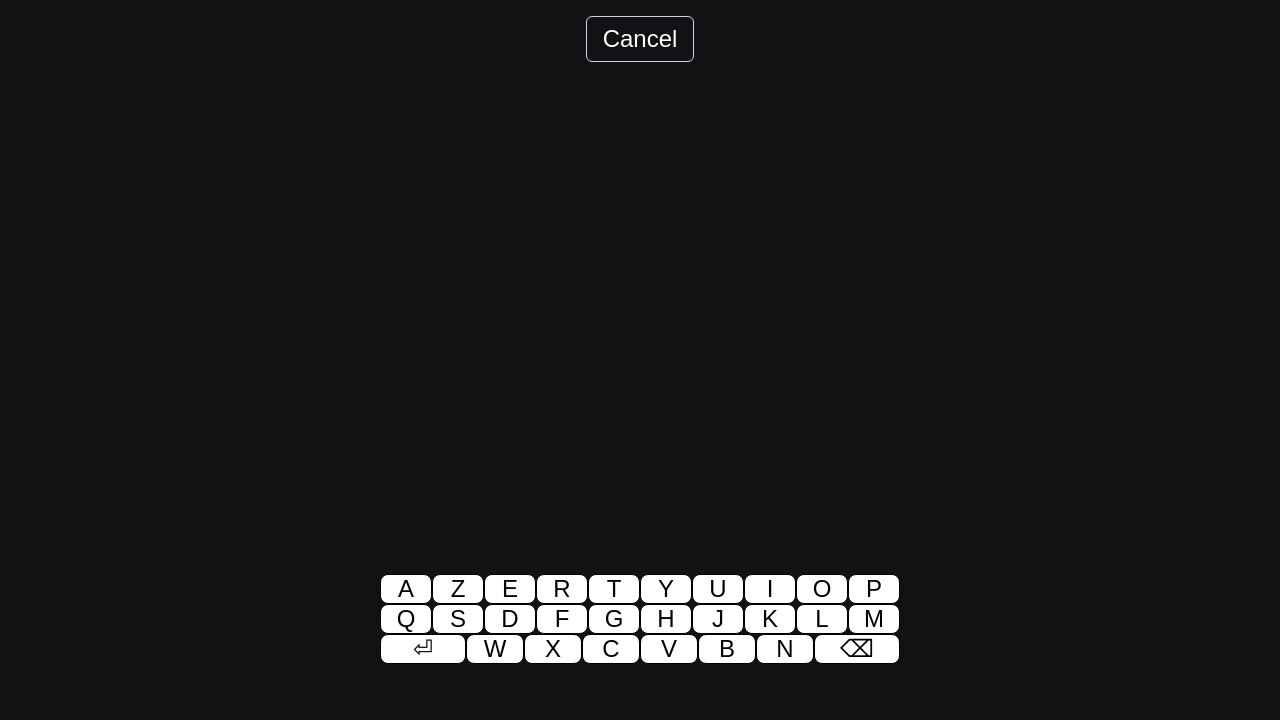
Test: game › should close the confirmation modal when No, continue is clicked
The image size is (1280, 720).
// Ouvre le modal
Click the button "Cancel": coordinates (640, 39) [586, 16, 694, 62]
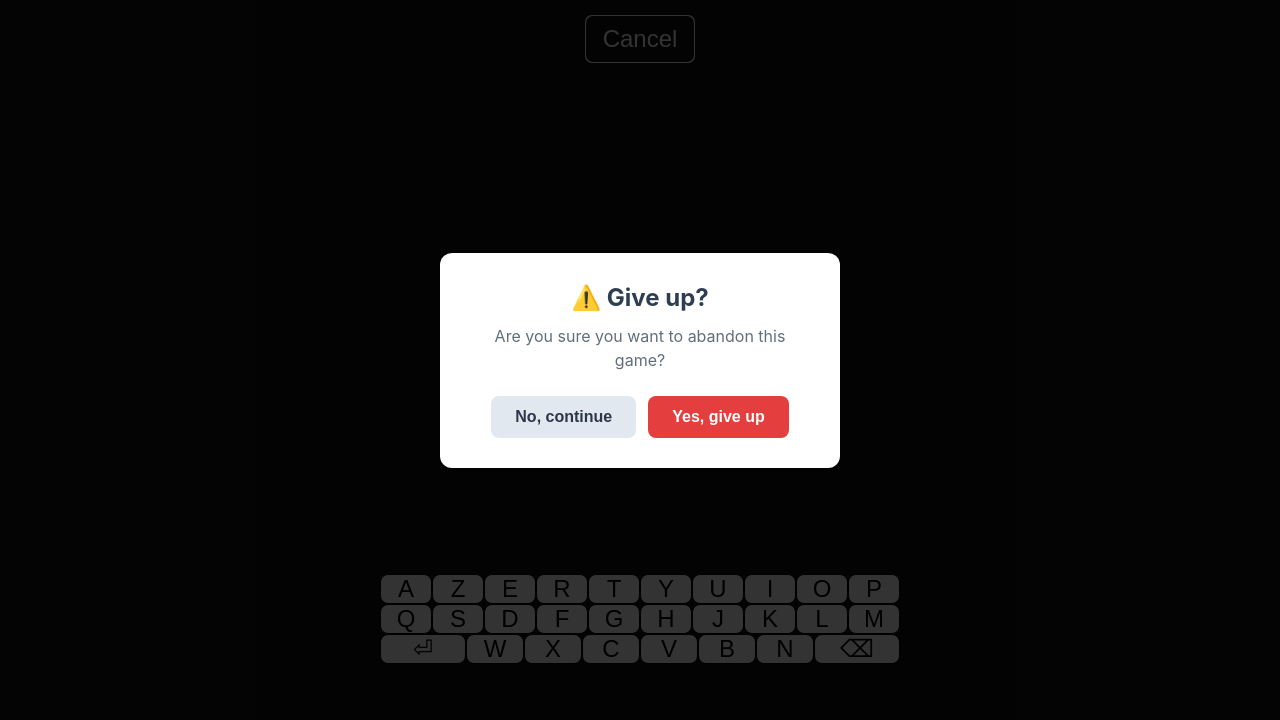
Click the button "No, continue": coordinates (564, 416) [491, 396, 636, 438]
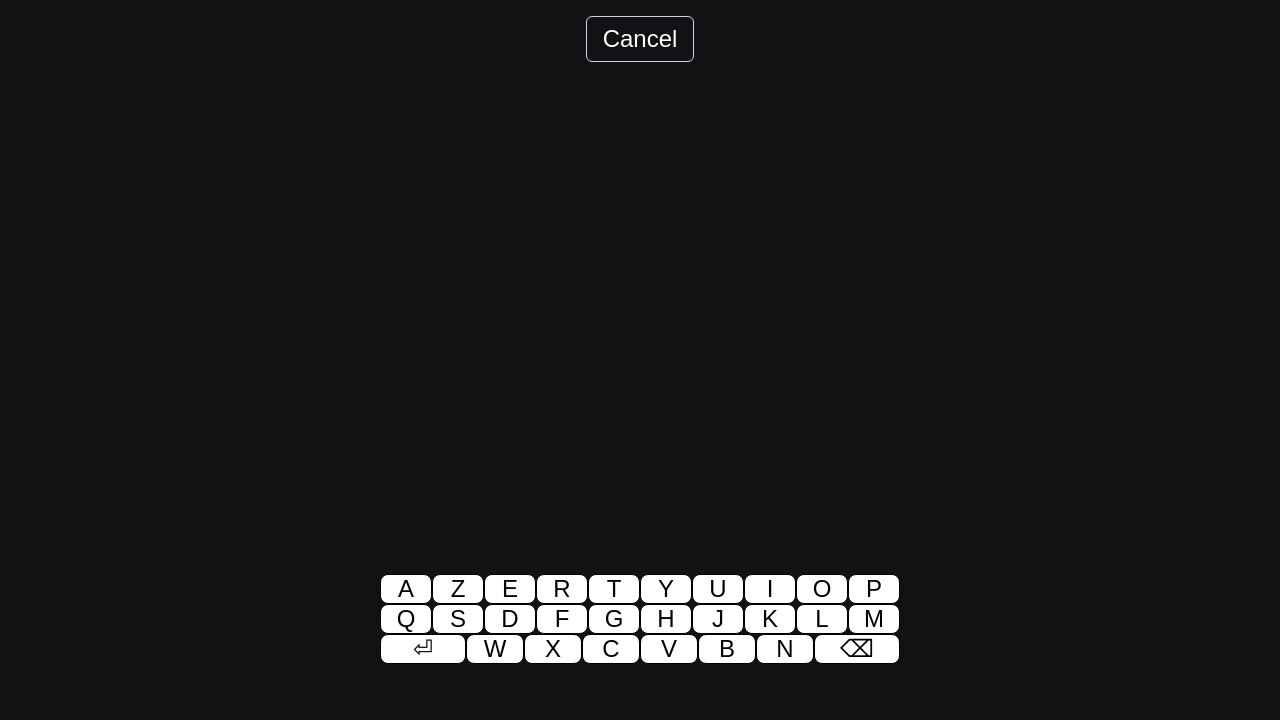
Expected: the button "Are you sure you want to abandon this game" is gone
